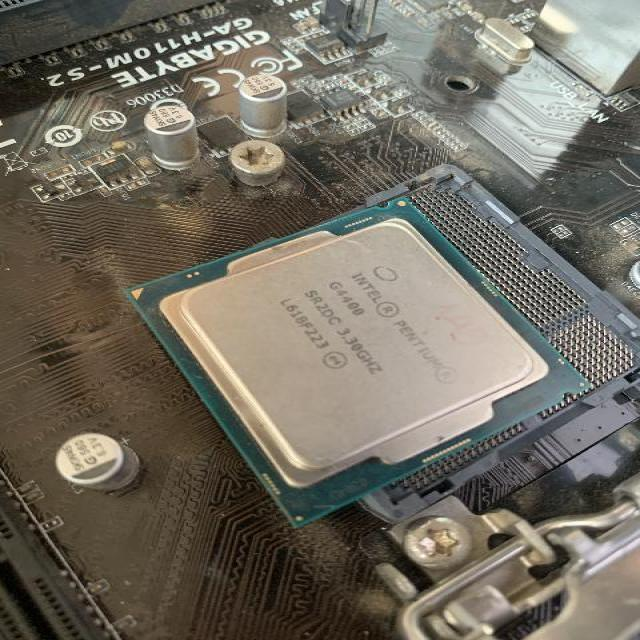CPU: (122, 198, 590, 527)
Mainboard: (1, 0, 640, 640)
